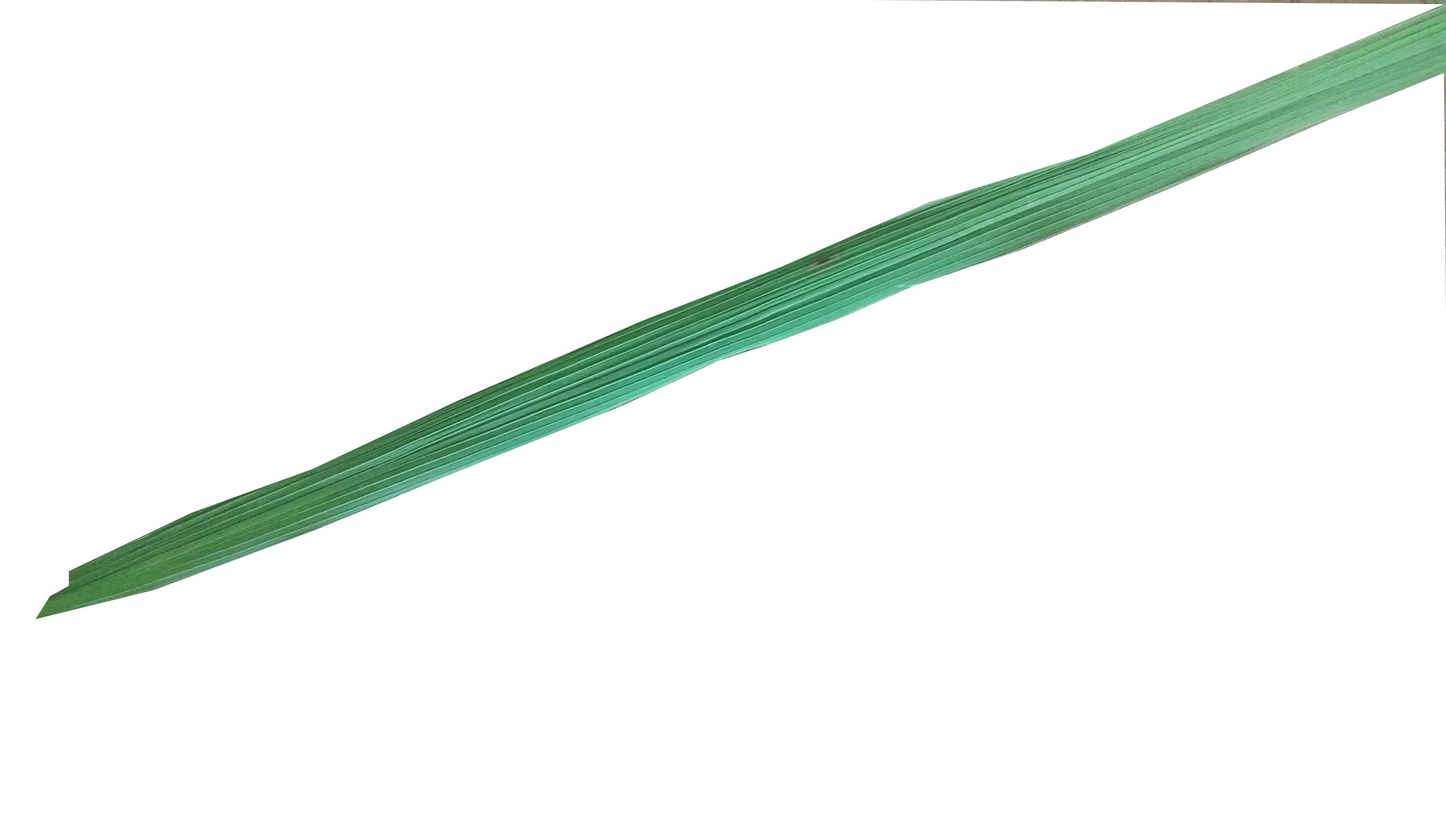Brown spot: (804, 247, 847, 274)
